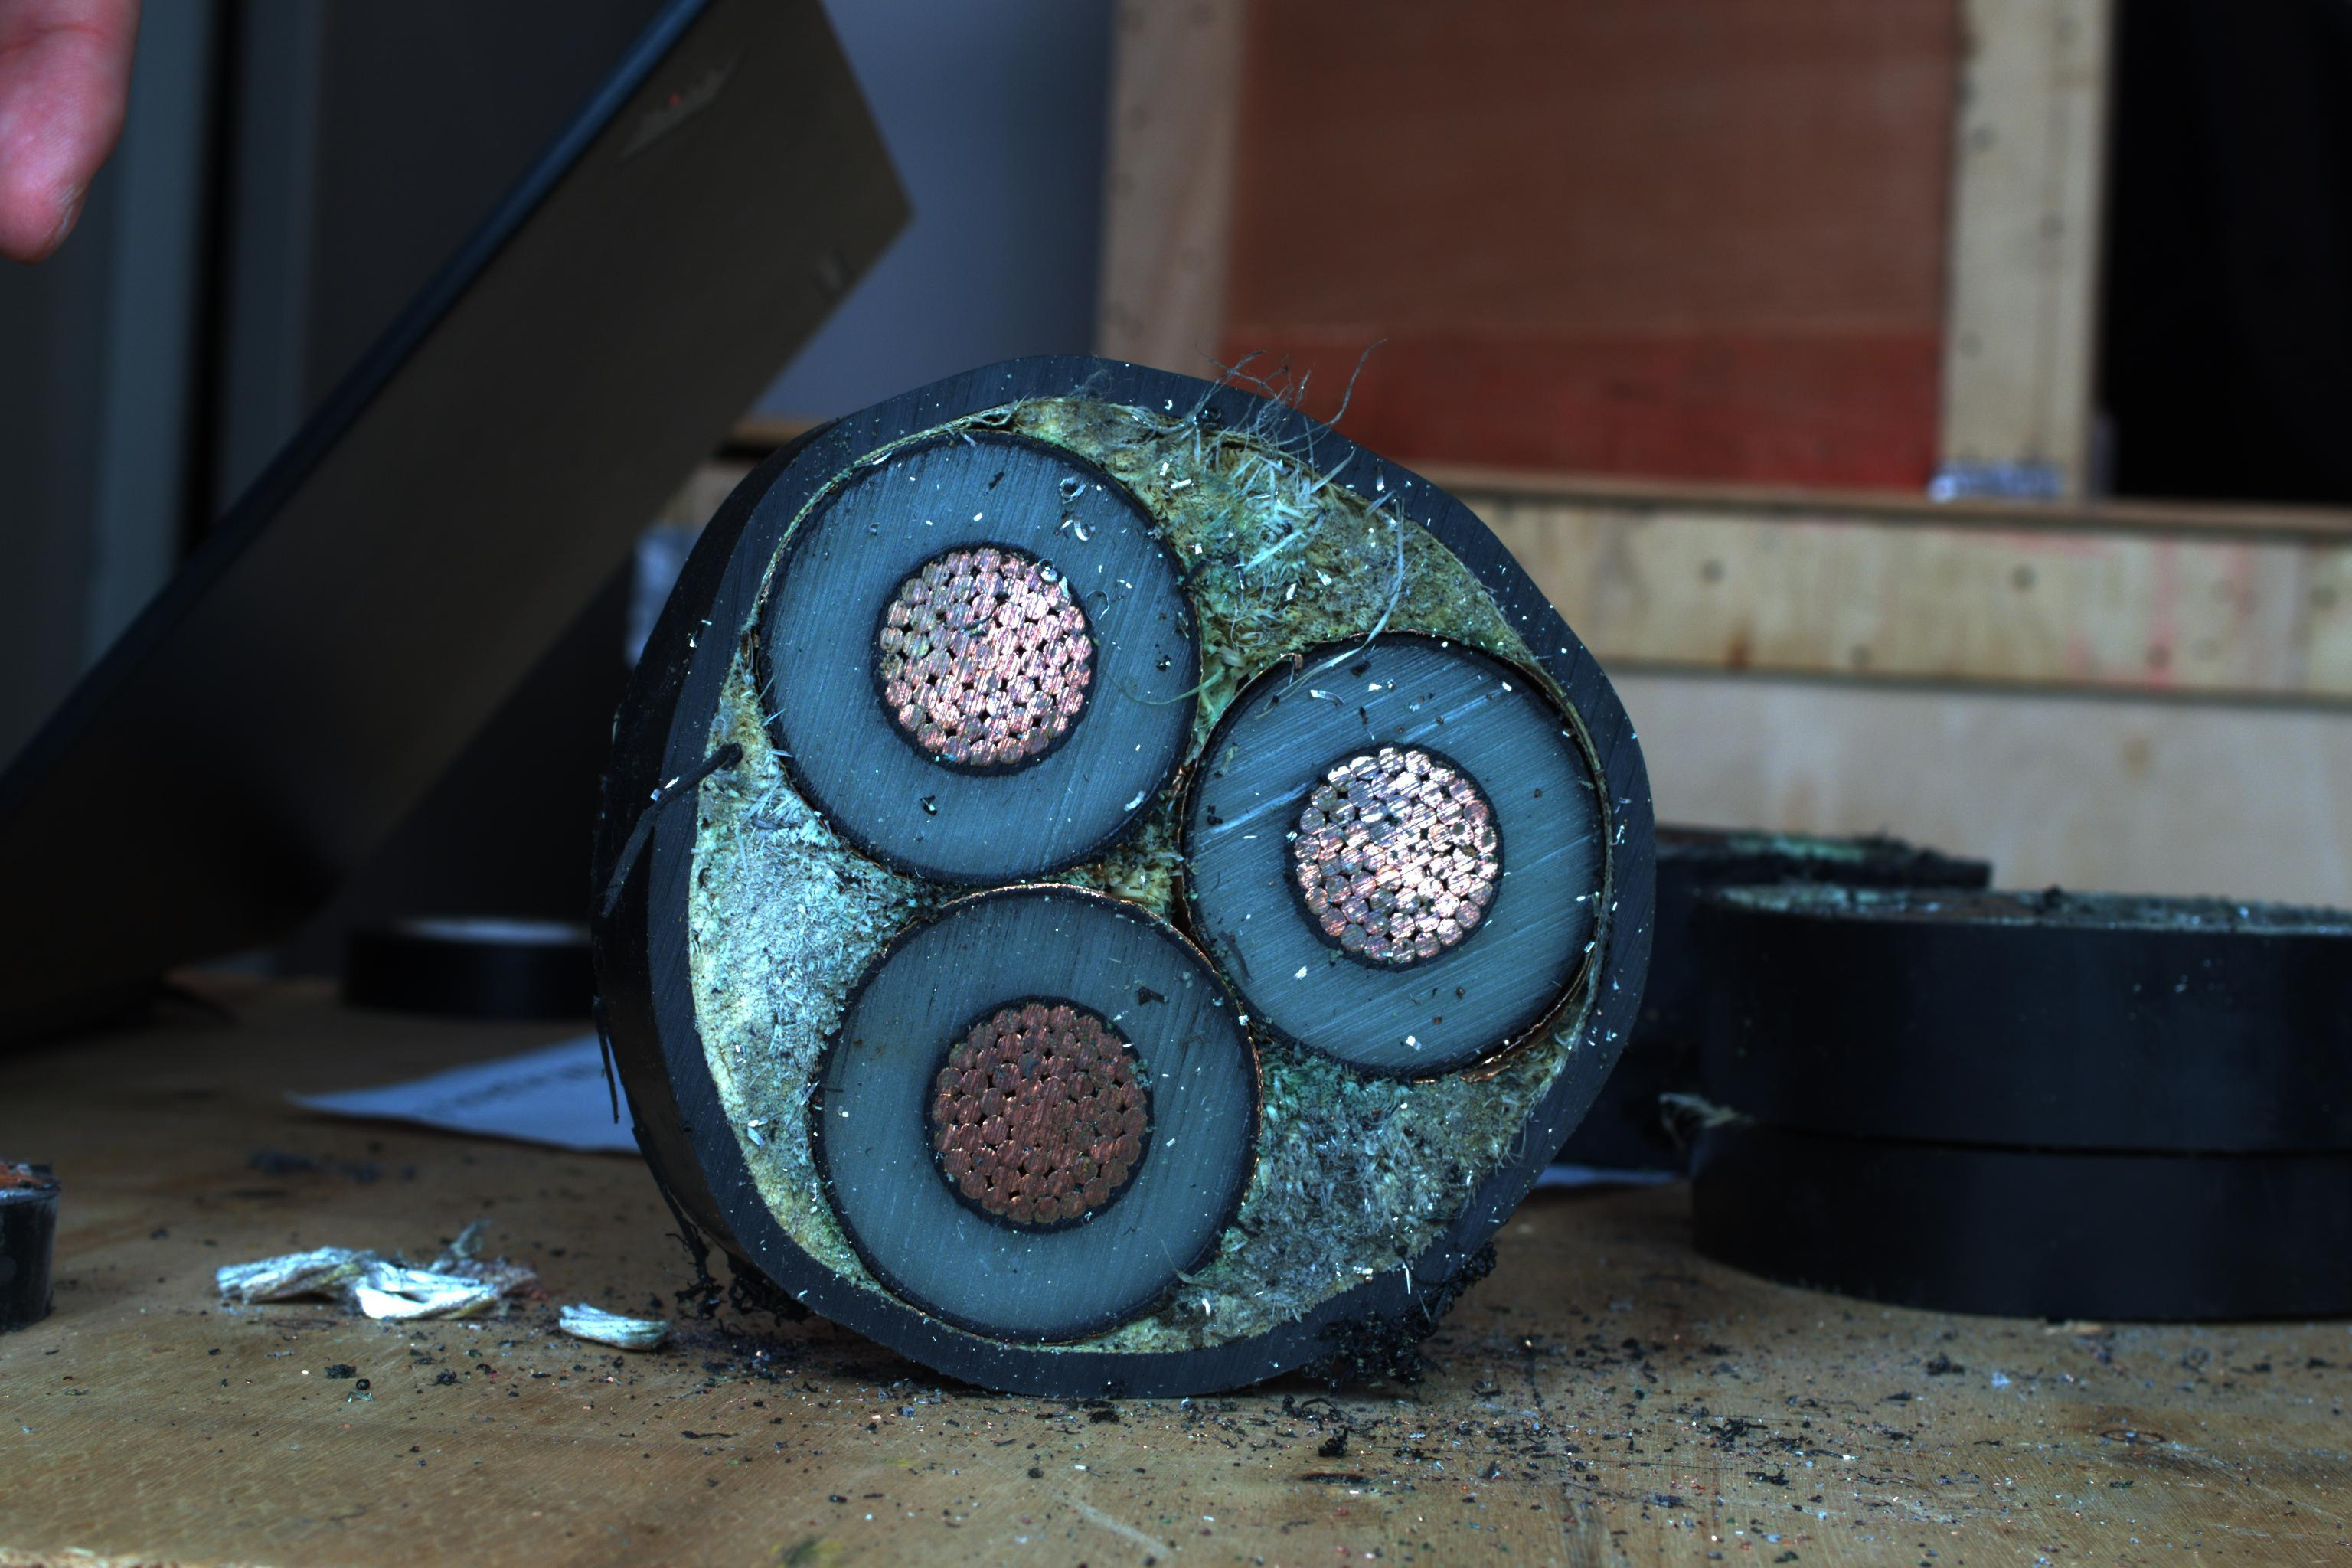ZA_YJV_26_35kV_3x400: (633, 367, 1648, 1384)
